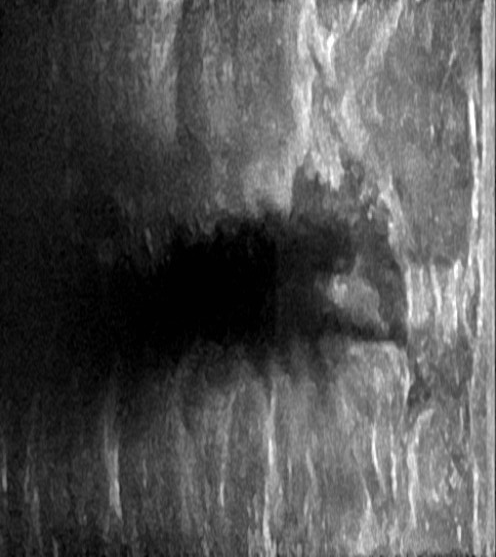Malignant: (226, 191, 412, 364)
